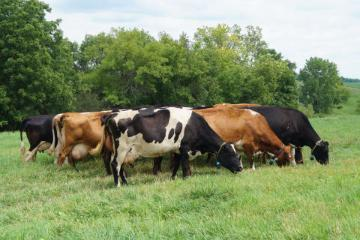cow: (107, 111, 239, 183), (210, 107, 292, 162), (266, 103, 336, 164), (52, 111, 101, 160), (19, 113, 52, 160)
